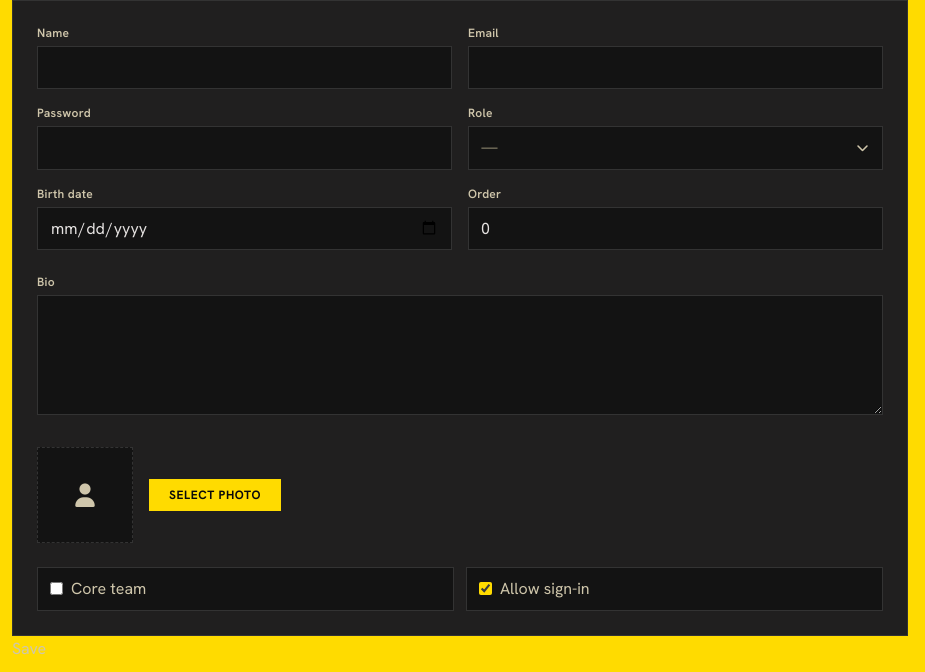
UserForm › populates role select
This screenshot has width=925, height=672.
Click the button named "Role".
click(489, 148)  # box 468,126 -> 883,170
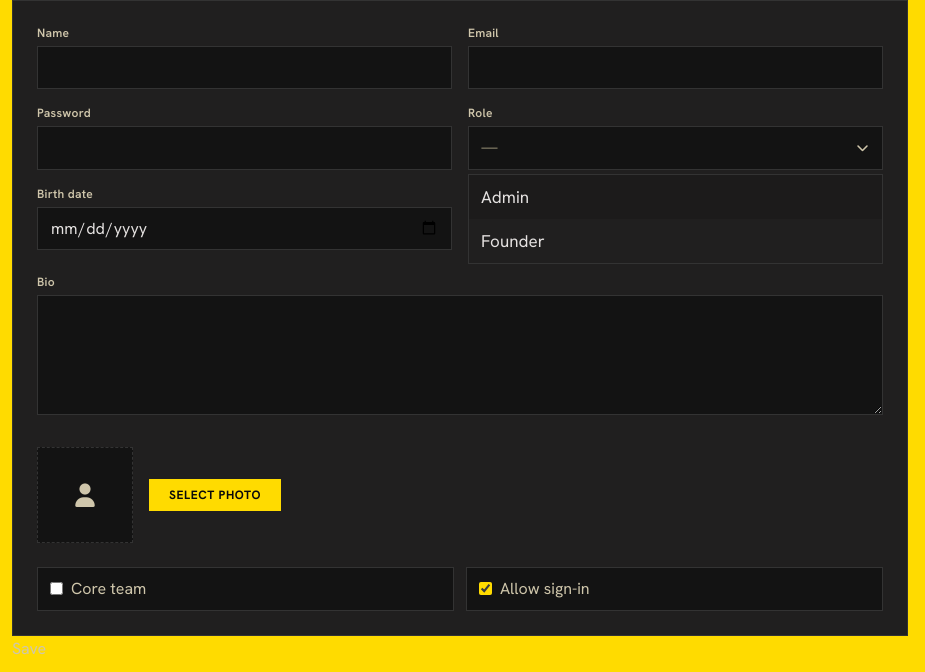
Expected: the option "Admin" is shown, 469,175 -> 882,219
Expected: the option "Founder" is shown, 481,230 -> 545,252
